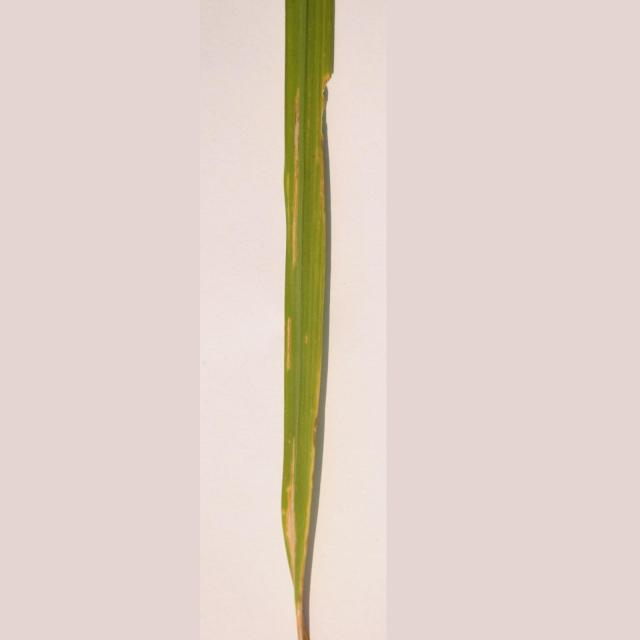Bacterial leaf blight: (204, 0, 398, 640)
